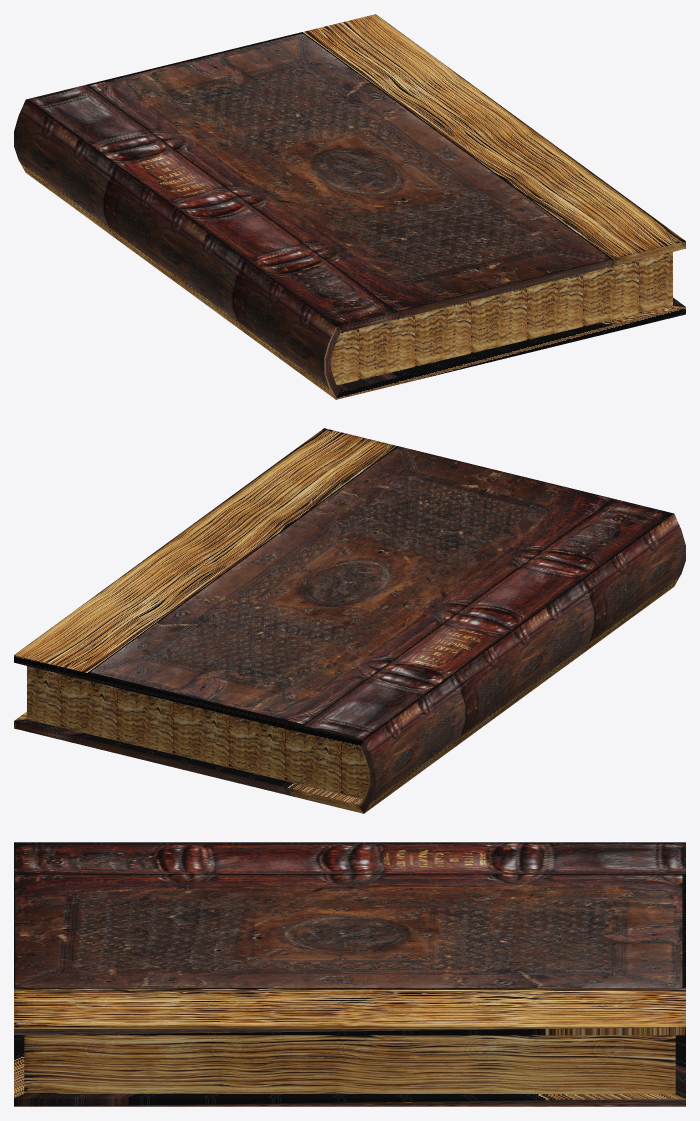
Rendered from old-book.fbx.
3 renders of one model, top to bottom at view 1: azimuth 30°, elevation 25°; view 2: azimuth 150°, elevation 25°; view 3: azimuth 270°, elevation 25°, orthographic. The views are drawn at different scales.
Visible parts, largest first — view 1: Box001; view 2: Box001; view 3: Box001.
Boxes of the visible parts, x1,y1,x2,y2 form: Box001: (14,14,685,399); Box001: (14,428,685,813); Box001: (14,842,685,1106).
Bounding box in the file's own units: 50.33 × 9.74 × 74.75.
3 materials, 3 textured.
